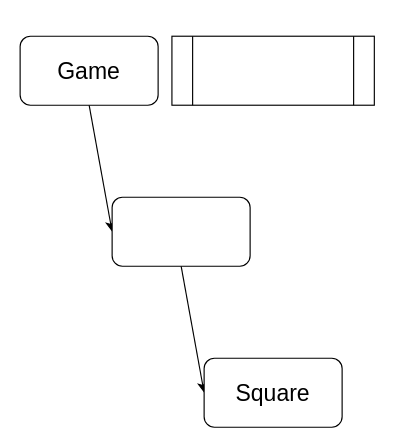
The diagram is 394 pixels wide and 447 high, and some of its shapes have lost their labels. Each missing label, with the box of its shape:
Board: (111, 196, 250, 266)
make a move check winner: (171, 35, 374, 105)
